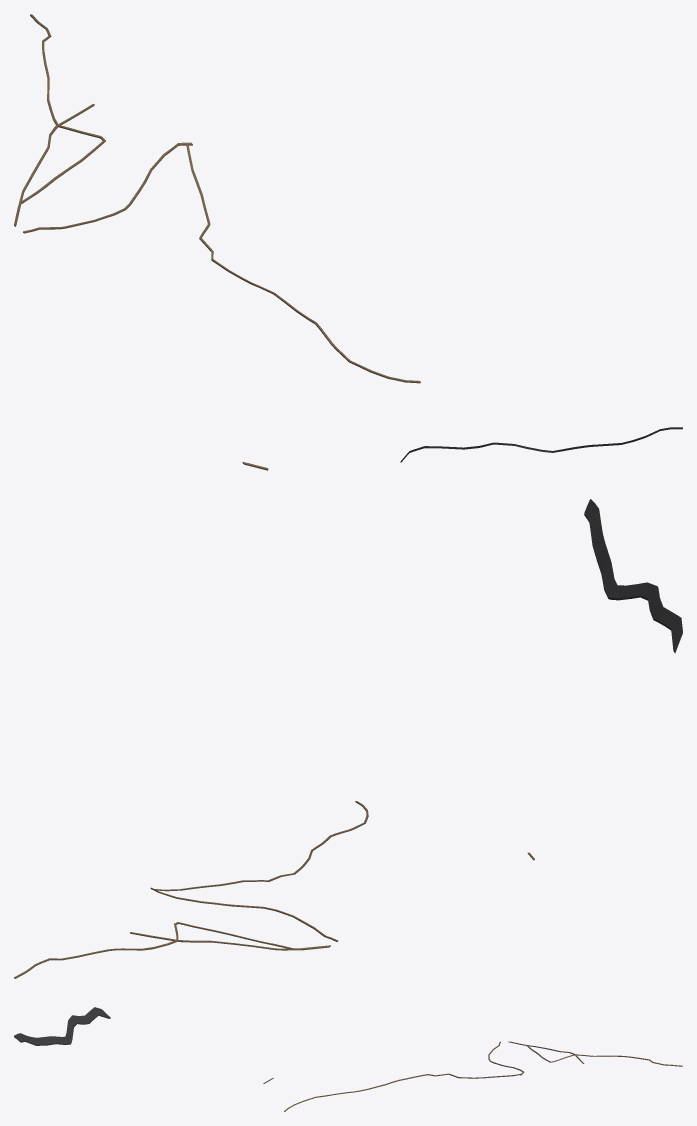
3 views of the same model, one above another, from view 1: azimuth 30°, elevation 25°; view 2: azimuth 150°, elevation 25°; view 3: azimuth 270°, elevation 25° (orthographic). The views are drawn at different scales.
Size of the model in its own units: 116 by 104 by 688.
